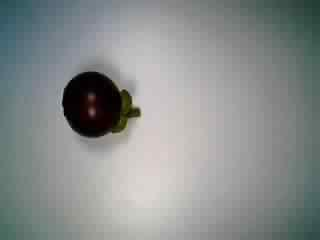mangosteen: (61, 70, 143, 138)
